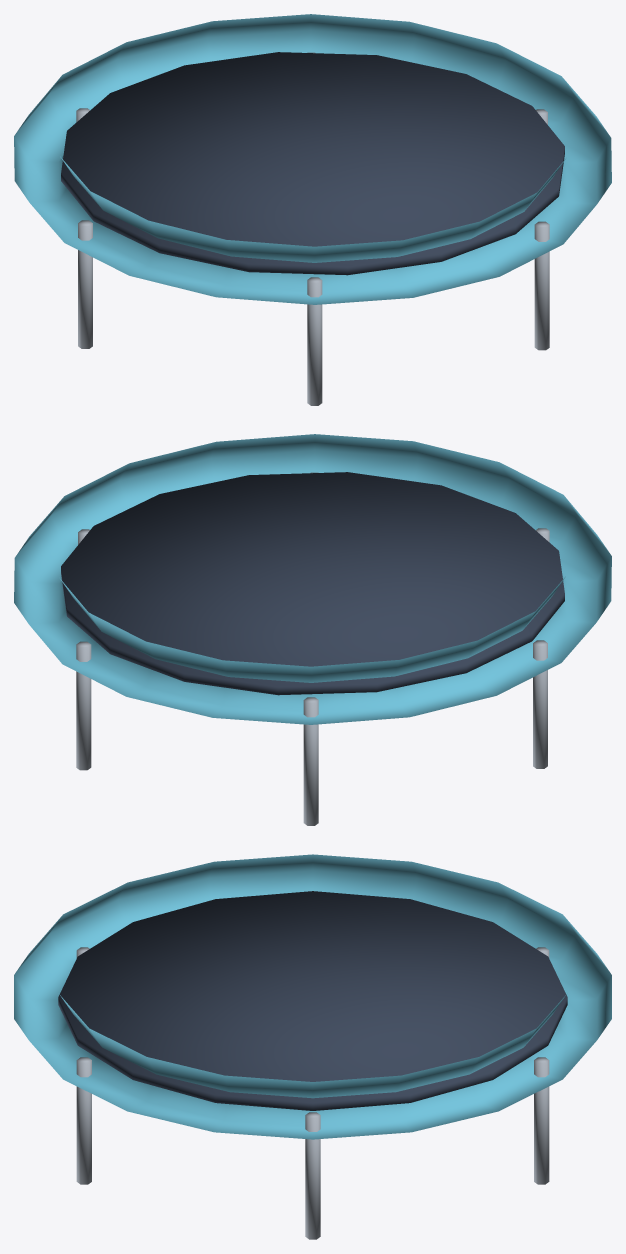
The model's file is trampoline.glb.
The picture shows the model from 3 angles, top to bottom: view 1: azimuth 30°, elevation 25°; view 2: azimuth 150°, elevation 25°; view 3: azimuth 270°, elevation 25°; orthographic projection.
Parts seen in each view (by area): view 1: world; view 2: world; view 3: world.
Boxes of the visible parts, left/top/right/bottom form: world: left=14, top=14, right=611, bottom=405; world: left=14, top=434, right=611, bottom=825; world: left=14, top=854, right=611, bottom=1239.
Size of the model in its own units: 3.2 by 0.9 by 3.2.
